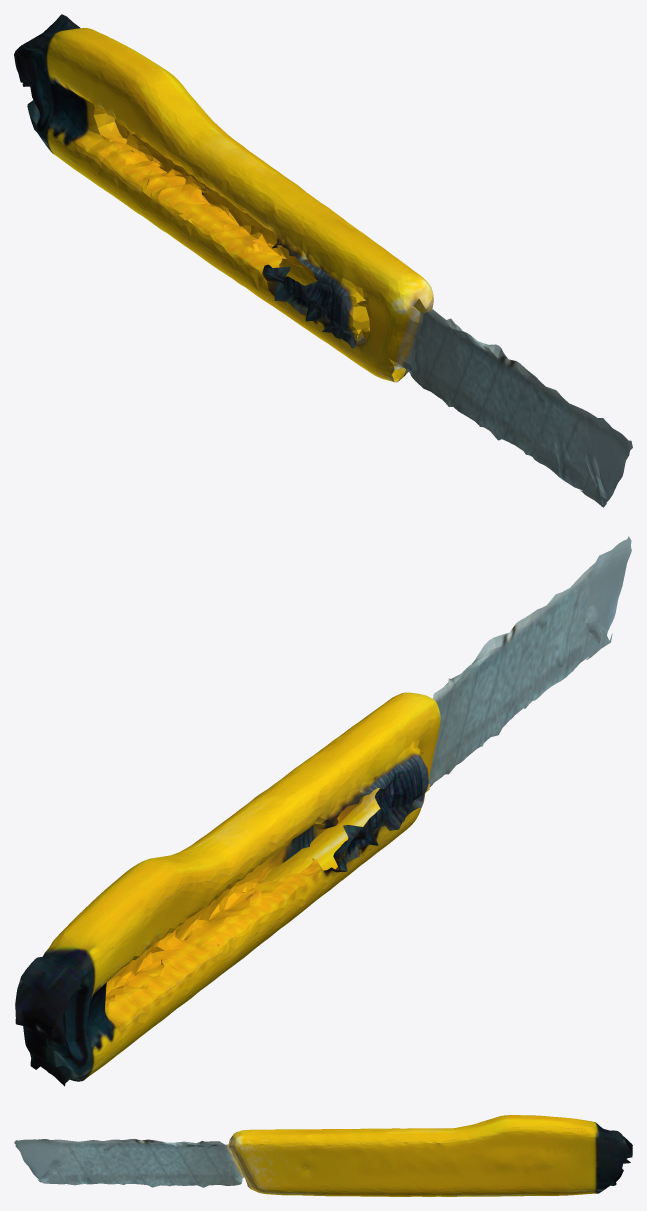
File: scan_align.obj
The picture shows the model from 3 angles, top to bottom: view 1: azimuth 30°, elevation 25°; view 2: azimuth 150°, elevation 25°; view 3: azimuth 270°, elevation 25°; orthographic projection. The views are drawn at different scales.
Parts seen in each view (by area): view 1: all; view 2: all; view 3: all.
Part boxes in pixels (bbox=[...]): all: bbox=[14, 14, 632, 507]; all: bbox=[15, 536, 631, 1086]; all: bbox=[14, 1115, 632, 1196].
Size of the model in its own units: 0.0149 by 0.032 by 0.2323.
Materials: 1 (1 with a texture image).
